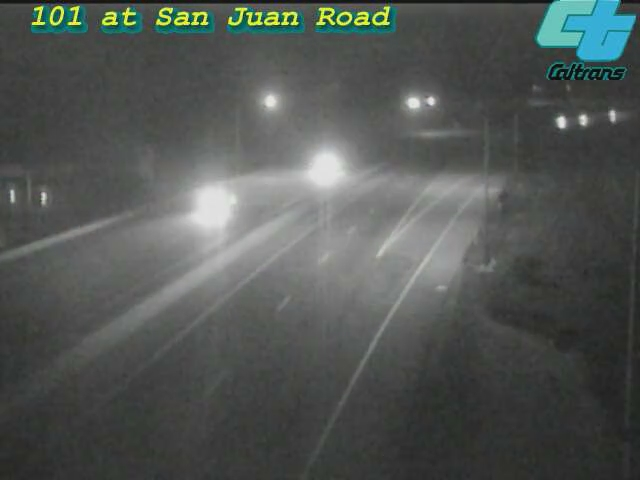vehicle: (170, 163, 250, 243), (284, 126, 364, 206), (589, 91, 639, 141), (565, 93, 615, 143), (537, 98, 587, 148)
